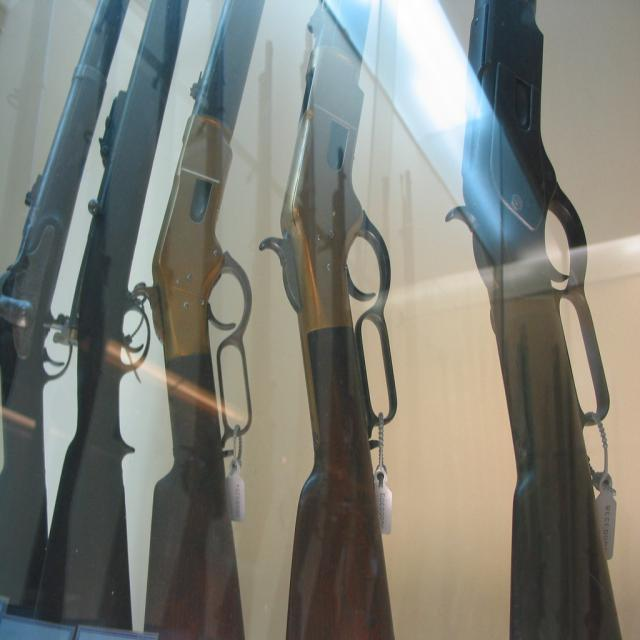weapon: (440, 0, 623, 639), (32, 0, 190, 632), (240, 62, 410, 616), (0, 0, 134, 619), (139, 0, 266, 639)
